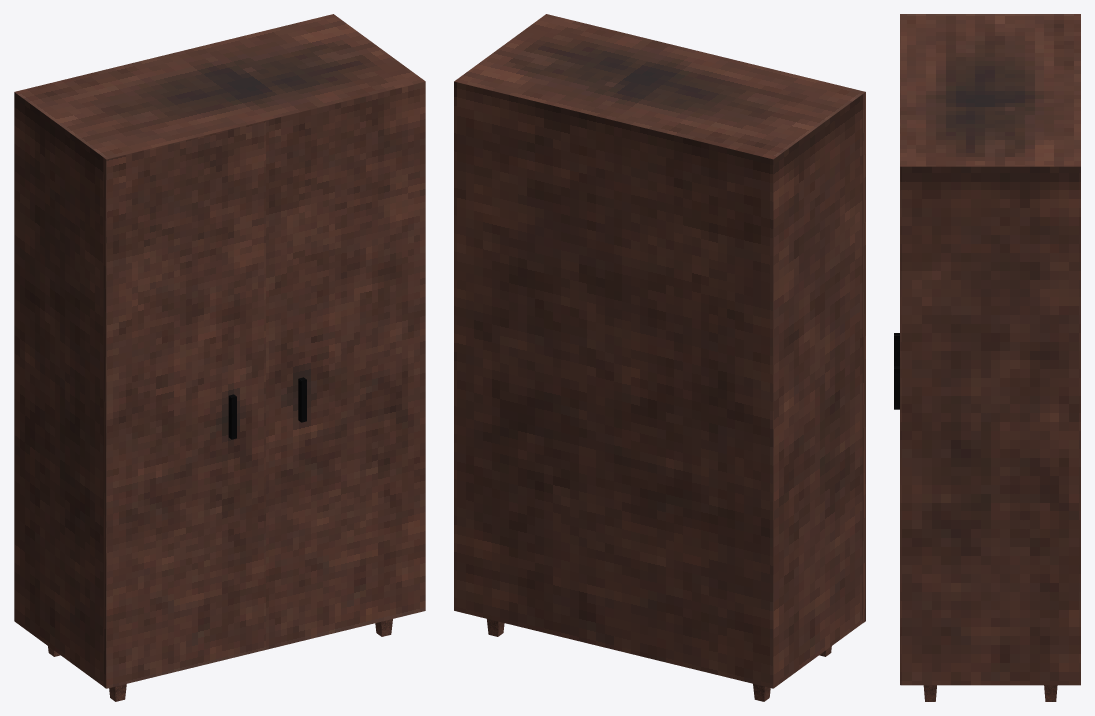
Rendered from wardrobe.glb.
3 views of the same model, side by side, from view 1: azimuth 30°, elevation 25°; view 2: azimuth 150°, elevation 25°; view 3: azimuth 270°, elevation 25° (orthographic). The views are drawn at different scales.
Parts seen in each view (by area): view 1: Cube; view 2: Cube; view 3: Cube.
Part boxes in pixels (x1,y1,x2,y2): Cube: [14, 14, 425, 701]; Cube: [454, 14, 865, 701]; Cube: [894, 14, 1080, 701].
Size of the model in its own units: 1.2 by 2 by 0.6207.
Materials: 1 (1 with a texture image).
